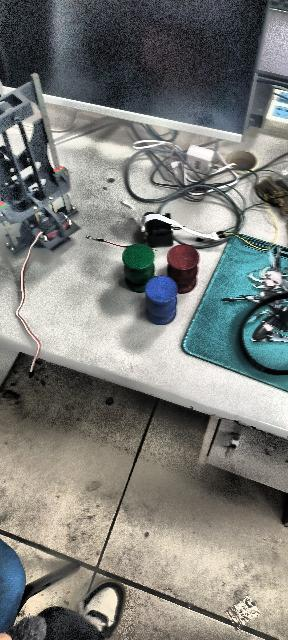blue: (144, 275, 178, 325)
green: (118, 241, 158, 294)
red: (167, 244, 203, 294)
